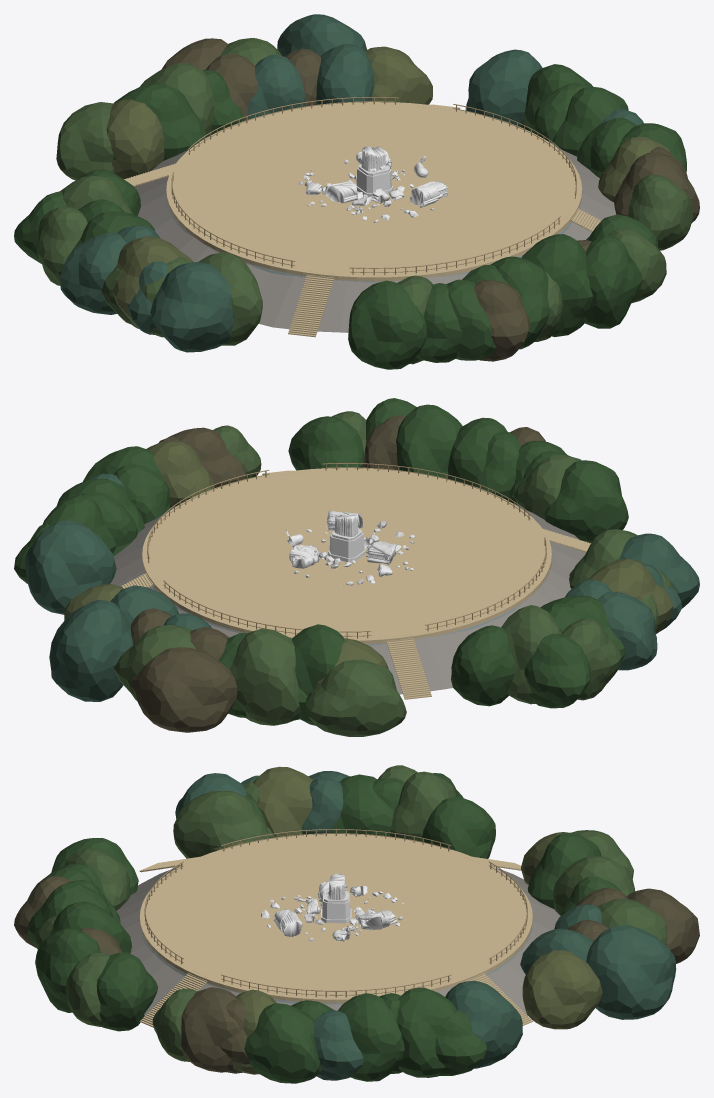
The model's file is cristo_redentor_lowpoly_fase4.fbx.
3 renders of one model, top to bottom at view 1: azimuth 30°, elevation 25°; view 2: azimuth 150°, elevation 25°; view 3: azimuth 270°, elevation 25°, orthographic. The views are drawn at different scales.
Parts seen in each view (by area): view 1: Mirador_Plataforma, Mirador_Monticulo, Arbusto_039, Arbusto_017, Arbusto_033, Arbusto_015, Arbusto_012, Arbusto_021, Arbusto_043, Arbusto_038, Arbusto_014, Arbusto_942 (+39 smaller); view 2: Mirador_Plataforma, Arbusto_047, Mirador_Monticulo, Arbusto_034, Arbusto_038, Arbusto_015, Arbusto_941, Arbusto_017, Arbusto_920, Arbusto_042, Arbusto_012, Arbusto_011 (+36 smaller); view 3: Mirador_Plataforma, Arbusto_034, Mirador_Monticulo, Arbusto_019, Arbusto_022, Arbusto_030, Arbusto_028, Arbusto_940, Arbusto_015, Arbusto_930, Arbusto_011, Arbusto_920 (+33 smaller).
Boxes of the visible parts, x1,y1,x2,y2 form: Mirador_Plataforma: [124, 102, 600, 337]; Mirador_Monticulo: [134, 141, 615, 332]; Arbusto_039: [150, 262, 233, 352]; Arbusto_017: [348, 280, 426, 369]; Arbusto_033: [584, 235, 642, 328]; Arbusto_015: [466, 49, 542, 126]; Arbusto_012: [521, 234, 592, 336]; Arbusto_021: [106, 99, 164, 179]; Arbusto_043: [60, 232, 126, 314]; Arbusto_038: [56, 102, 113, 180]; Arbusto_014: [628, 174, 692, 250]; Arbusto_942: [114, 84, 206, 160]; Mirador_Plataforma: [121, 468, 591, 699]; Arbusto_047: [131, 647, 237, 732]; Mirador_Monticulo: [110, 502, 586, 694]; Arbusto_034: [49, 599, 133, 701]; Arbusto_038: [306, 659, 406, 736]; Arbusto_015: [25, 520, 116, 614]; Arbusto_941: [229, 628, 300, 725]; Arbusto_017: [544, 460, 628, 543]; Arbusto_920: [451, 625, 515, 706]; Arbusto_042: [524, 633, 590, 708]; Arbusto_012: [396, 404, 462, 478]; Arbusto_011: [288, 416, 364, 470]; Mirador_Plataforma: [139, 834, 532, 1027]; Arbusto_034: [586, 925, 676, 1019]; Mirador_Monticulo: [116, 866, 560, 1015]; Arbusto_019: [522, 950, 602, 1029]; Arbusto_022: [244, 1003, 321, 1083]; Arbusto_030: [173, 790, 268, 858]; Arbusto_028: [181, 987, 239, 1072]; Arbusto_940: [396, 987, 456, 1077]; Arbusto_015: [445, 980, 522, 1068]; Arbusto_930: [338, 993, 402, 1081]; Arbusto_011: [96, 952, 157, 1031]; Arbusto_920: [422, 797, 495, 858].
Bounding box in the file's own units: 7276 × 1131 × 7680.
